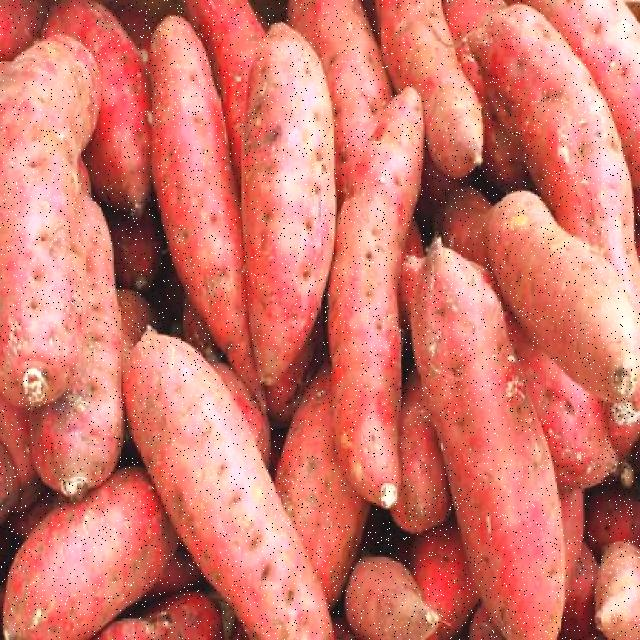Sweet Potato: (407, 201, 578, 640), (328, 60, 428, 518), (231, 3, 335, 389)
